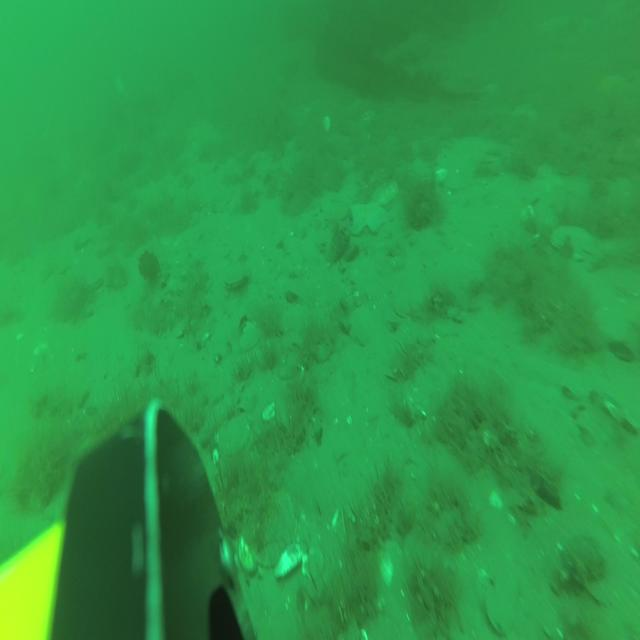scallop: (247, 492, 292, 566), (215, 416, 258, 469), (551, 218, 592, 260), (374, 178, 401, 205), (408, 156, 433, 184), (305, 548, 323, 584), (222, 265, 248, 289), (359, 108, 374, 123), (322, 115, 332, 137)
starfish: (348, 201, 389, 234)
